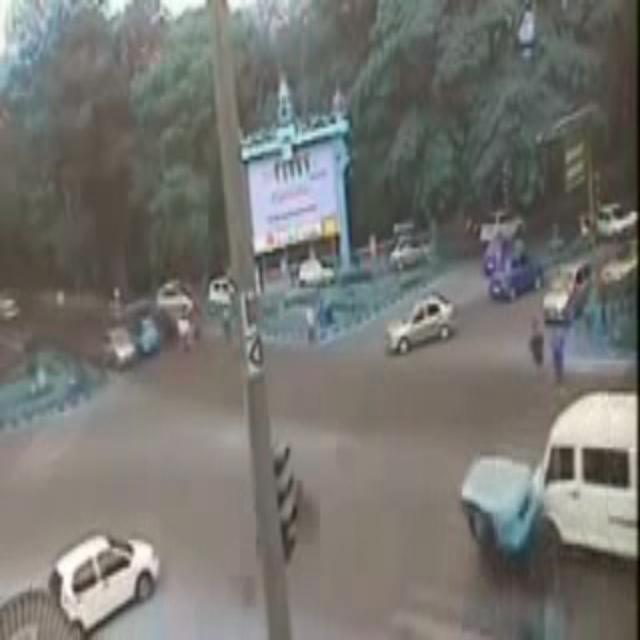acc: (446, 383, 599, 578)
